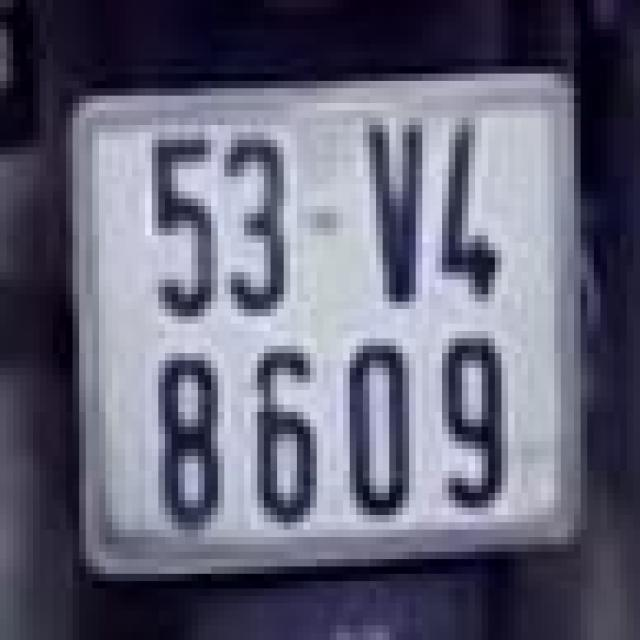0: (336, 335, 416, 526)
3: (221, 121, 300, 328)
4: (436, 114, 522, 313)
5: (135, 129, 221, 327)
6: (240, 331, 326, 537)
8: (148, 346, 228, 537)
9: (429, 327, 521, 519)
V: (350, 114, 429, 313)
